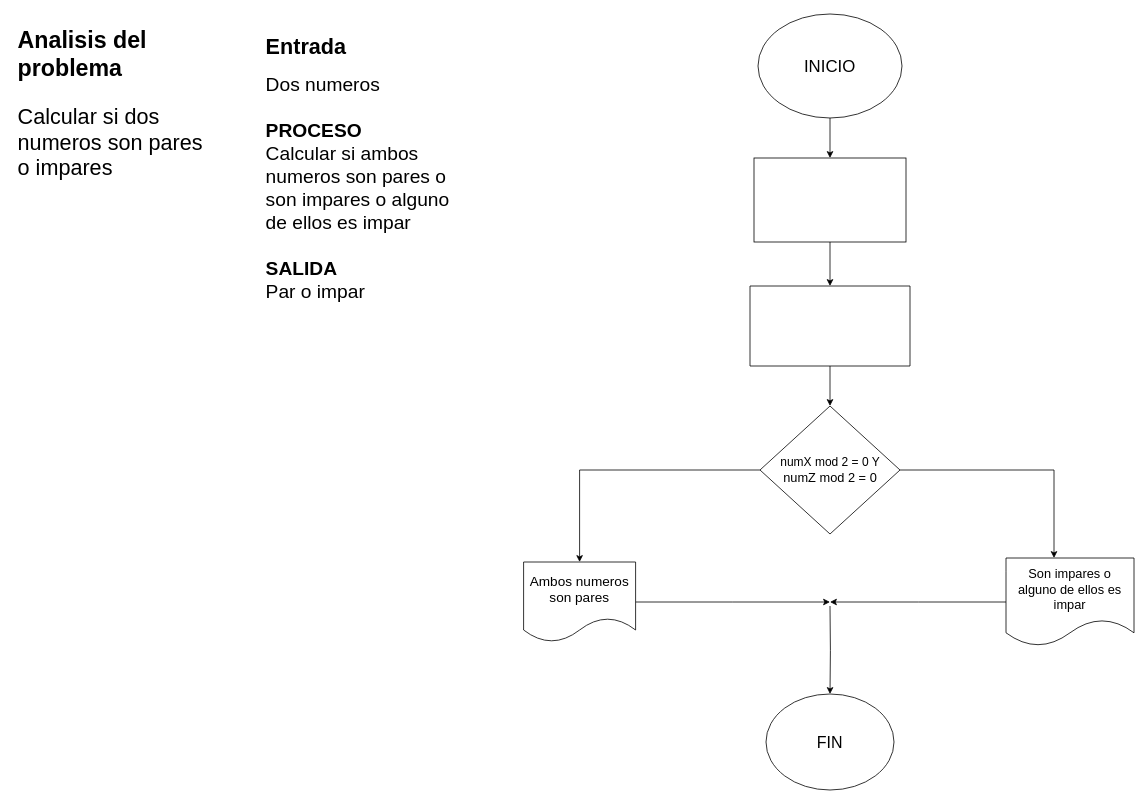
Some shapes in this 1148 by 804 pixel diagram are drawn without their labels. The shapes that lost their labels are listed below. From the top down, each one's centre as x and y in pixels, then its label:
[829,199]: Definir numX, numZ como enteros
[829,325]: Ingresar dos numeros
